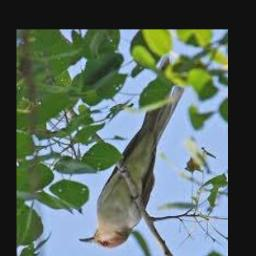Cuckoo: (78, 57, 184, 249)
